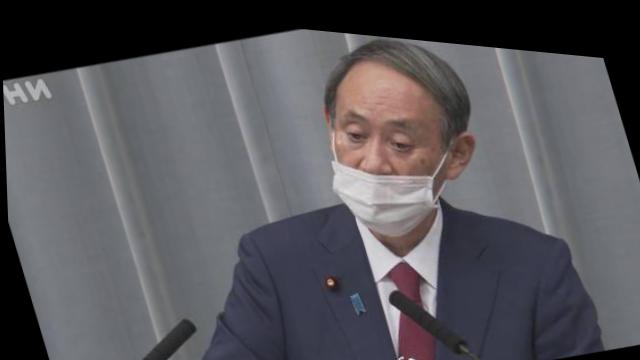WRONG: (316, 74, 454, 240)
